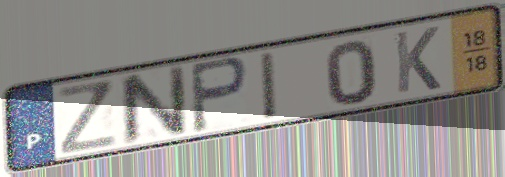0: (322, 35, 380, 109)
I: (257, 48, 281, 123)
K: (391, 24, 444, 97)
N: (115, 62, 190, 149)
P: (187, 54, 251, 136)
Z: (55, 76, 121, 157)
